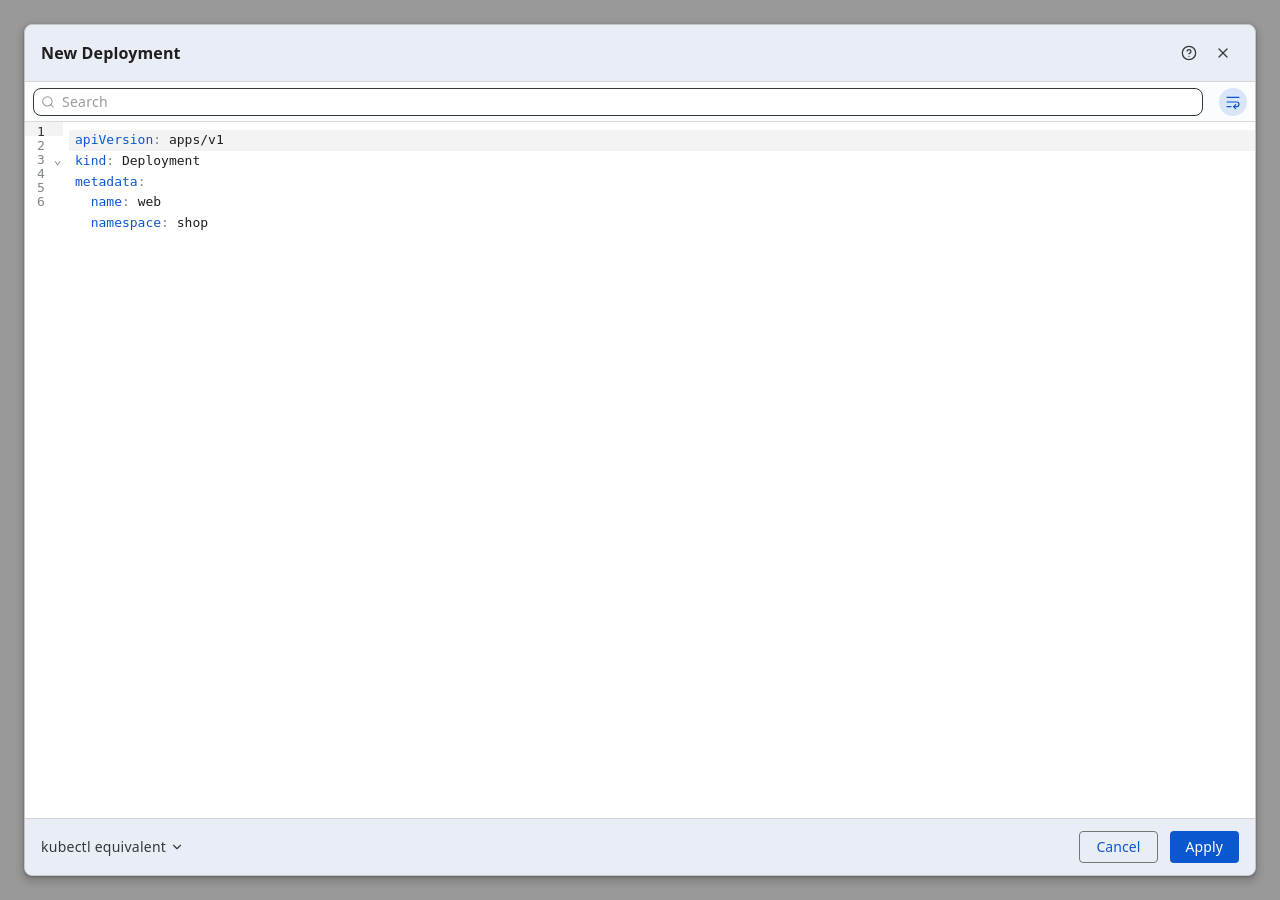
Scenario: a refused apply › does not say "some of these" about one field
Click the button "Apply" at point(1204, 847), box [1170, 831, 1239, 863]
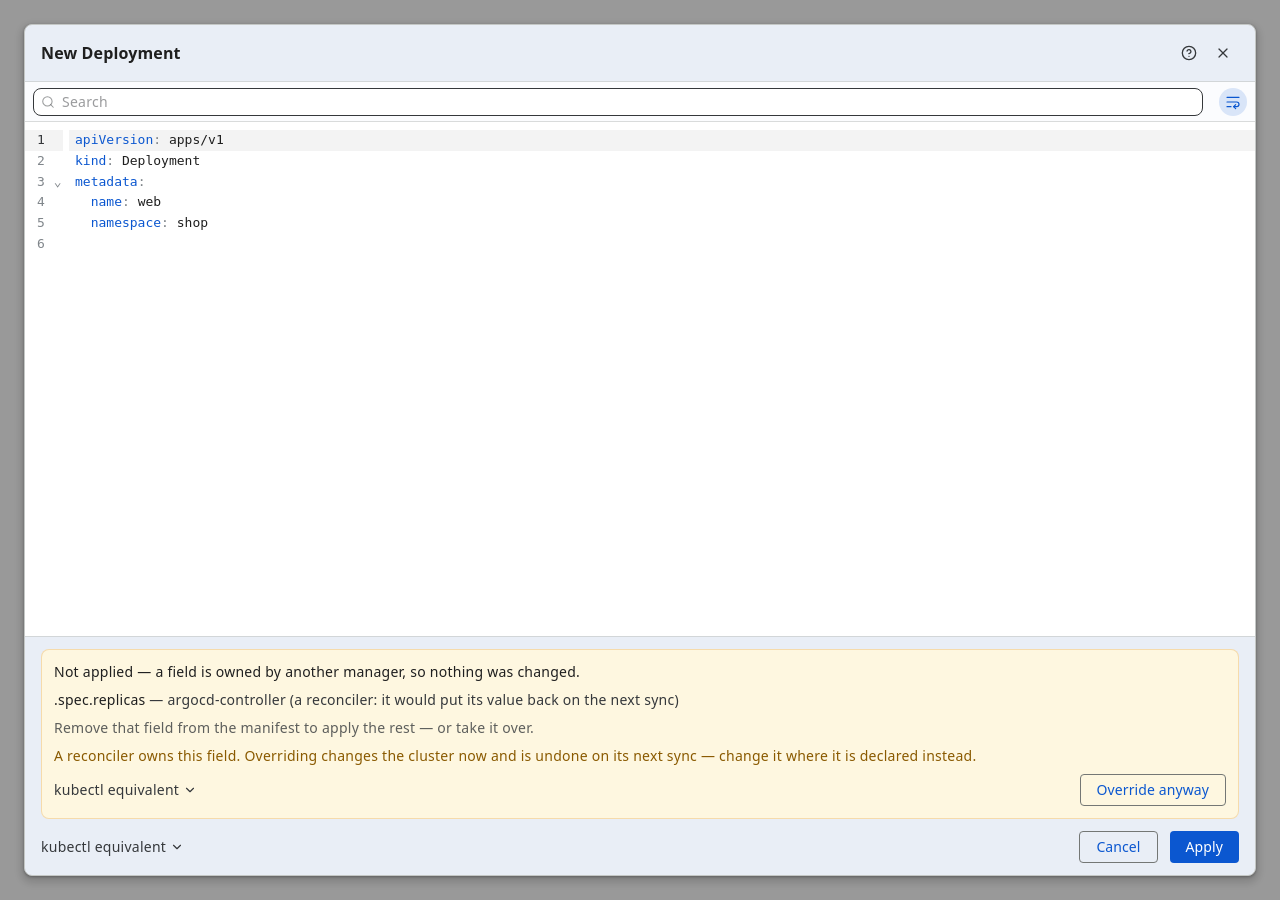
Expected: the text "A reconciler owns this field." is shown, [54, 746, 976, 765]
